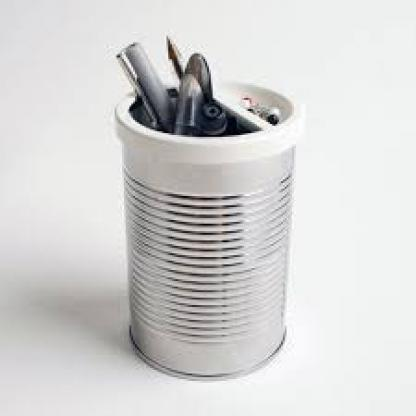Compsot: (115, 78, 290, 379)
